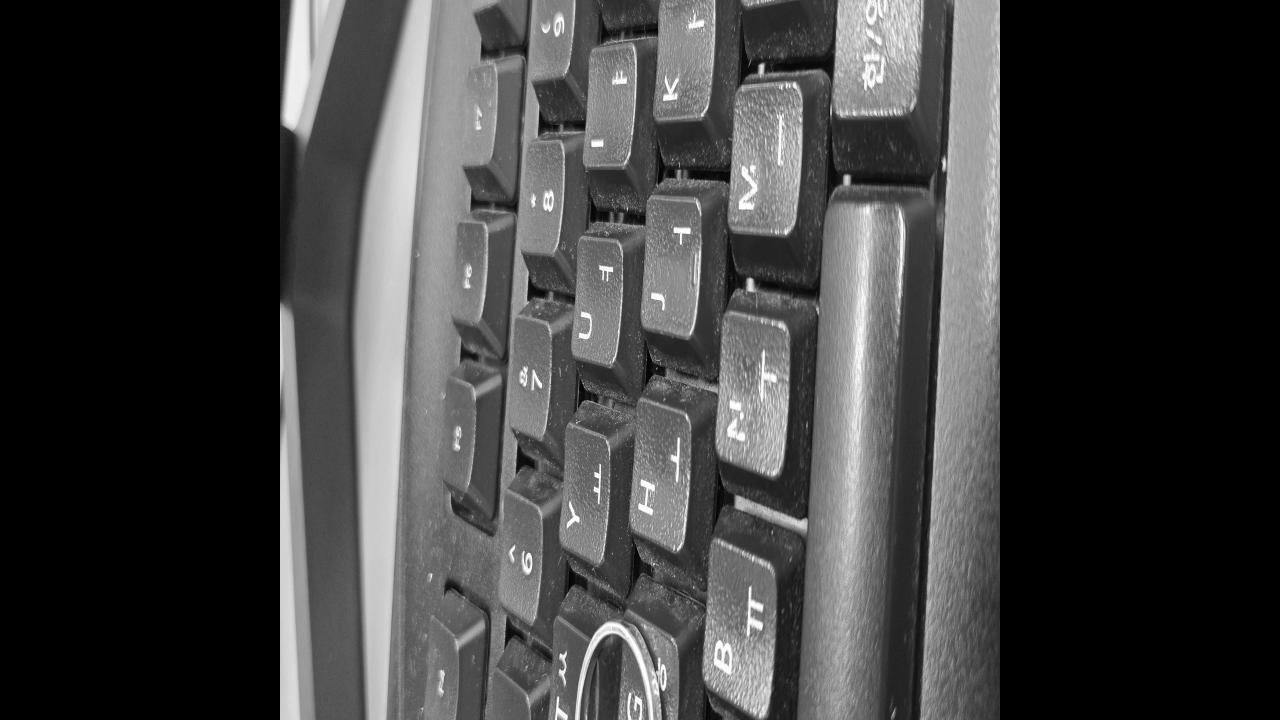ring: (571, 613, 664, 720)
